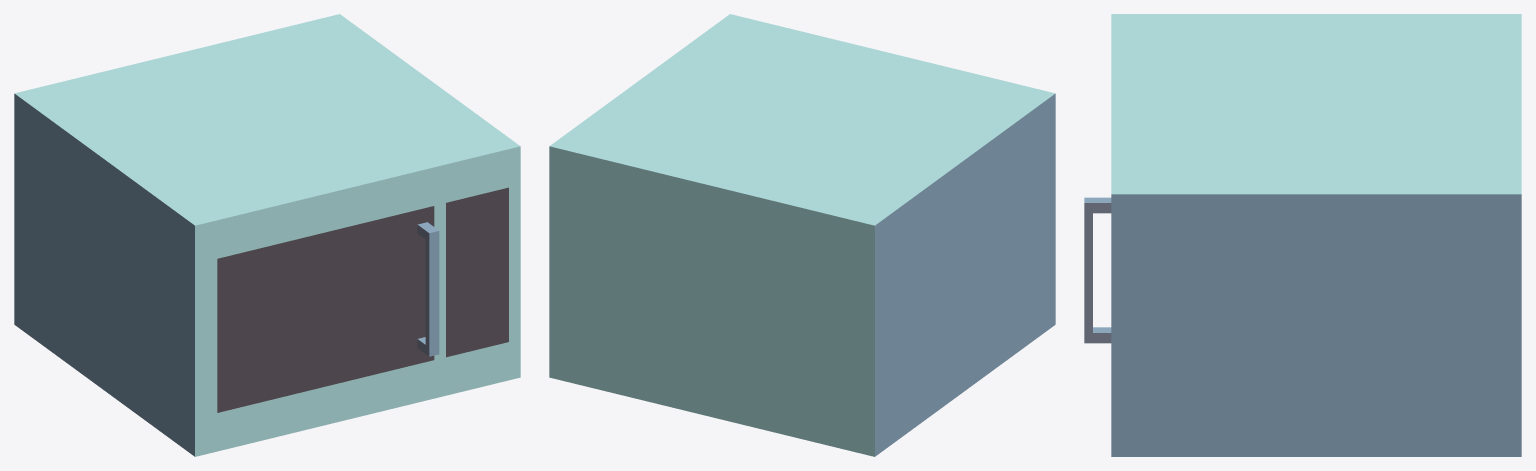
File: Microwave.fbx
3 views of the same model, side by side, from view 1: azimuth 30°, elevation 25°; view 2: azimuth 150°, elevation 25°; view 3: azimuth 270°, elevation 25° (orthographic). The views are drawn at different scales.
Visible parts, largest first — view 1: Microwave; view 2: Microwave; view 3: Microwave.
Boxes of the visible parts, box(x1,y1,x2,y2) form: Microwave: box(14, 14, 520, 456); Microwave: box(549, 14, 1055, 456); Microwave: box(1084, 14, 1521, 456).
Size of the model in its own units: 99 by 67.21 by 101.
